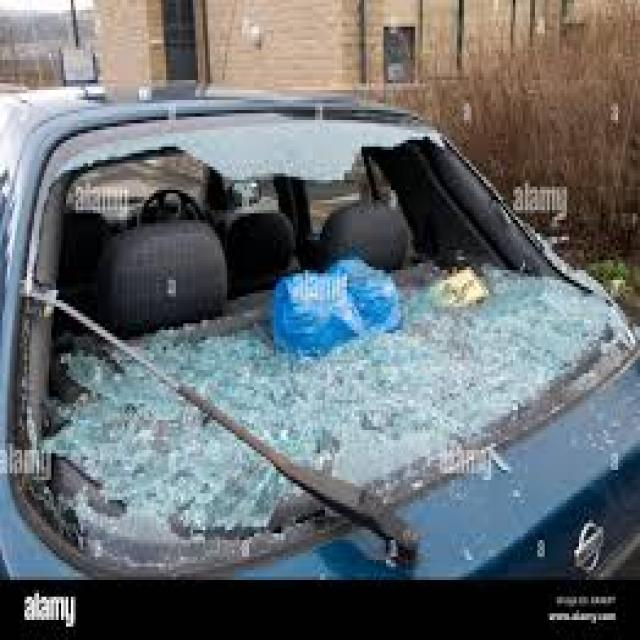damaged-rear-window: (28, 106, 640, 579)
